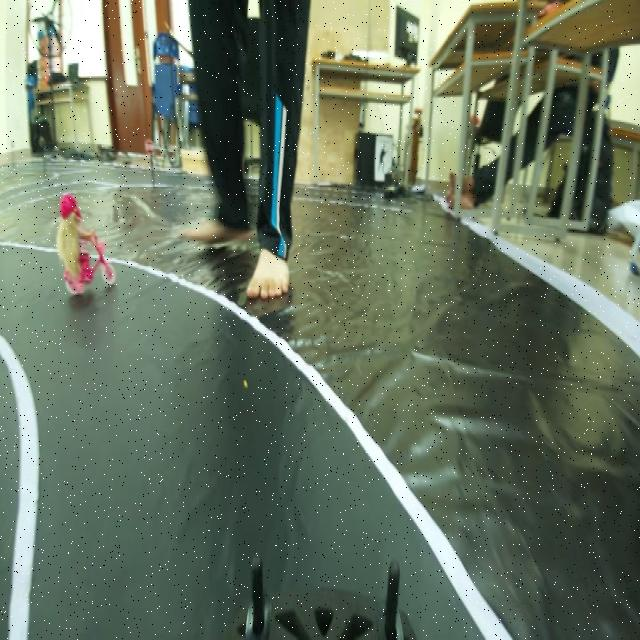pedestrian: (39, 197, 120, 308)
